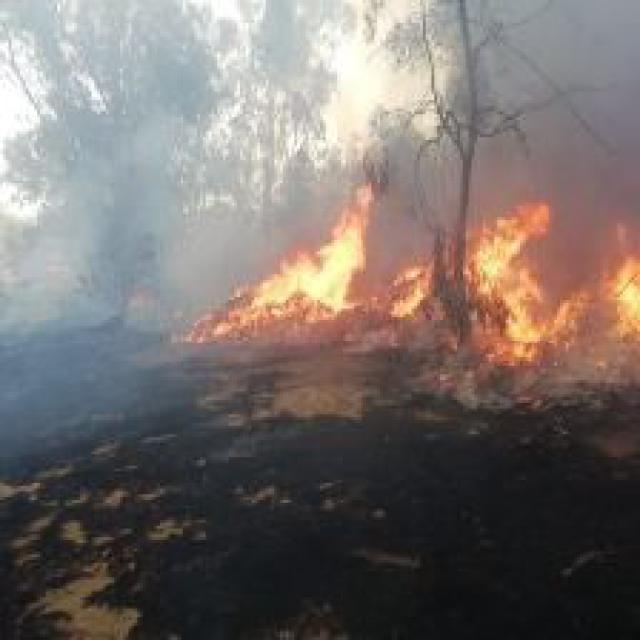fire: (186, 154, 397, 337), (380, 189, 586, 354), (597, 228, 637, 343)
